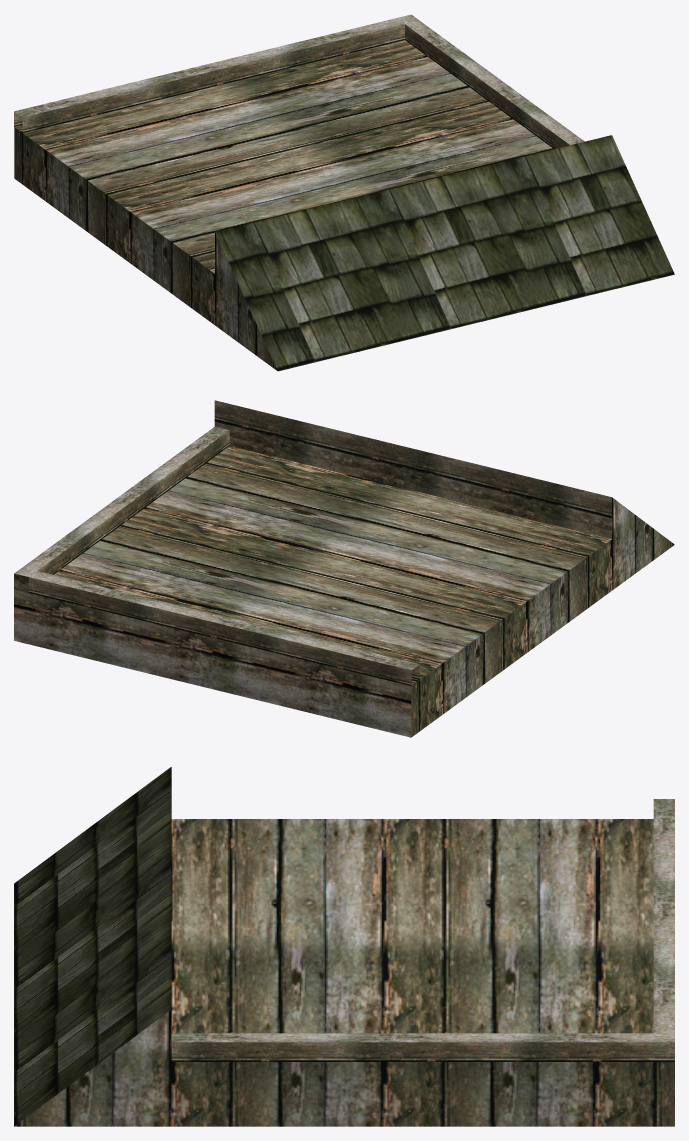
The model's file is HouseWall06.glb.
3 views of the same model, one above another, from view 1: azimuth 30°, elevation 25°; view 2: azimuth 150°, elevation 25°; view 3: azimuth 270°, elevation 25° (orthographic). The views are drawn at different scales.
Parts seen in each view (by area): view 1: HouseWall06; view 2: HouseWall06; view 3: HouseWall06.
Part boxes in pixels (<box>): HouseWall06: <box>14,14,674,371</box>; HouseWall06: <box>14,400,674,737</box>; HouseWall06: <box>14,767,674,1126</box>.
Size of the model in its own units: 4 by 0.9004 by 4.6.
Materials: 2 (2 with a texture image).
